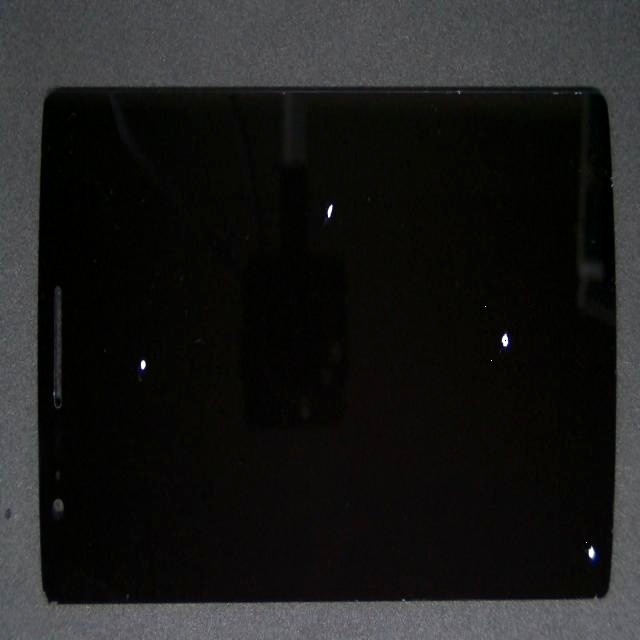stain: (273, 121, 640, 473), (315, 250, 640, 640), (147, 93, 473, 357), (97, 152, 217, 503)
